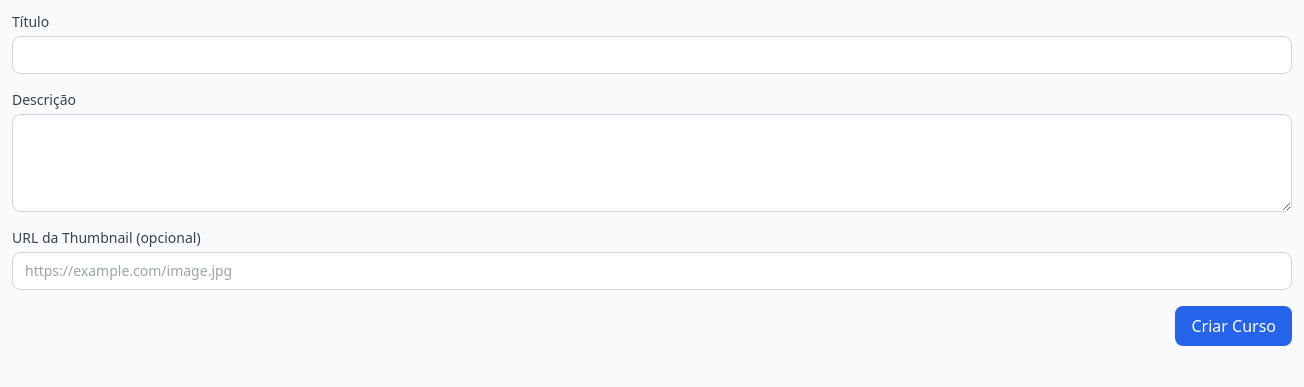
it: CourseForm › deve exibir erro para título curto
Type "AB" into the field labelled "Título". click: [652, 55]
box: [12, 36, 1292, 74]
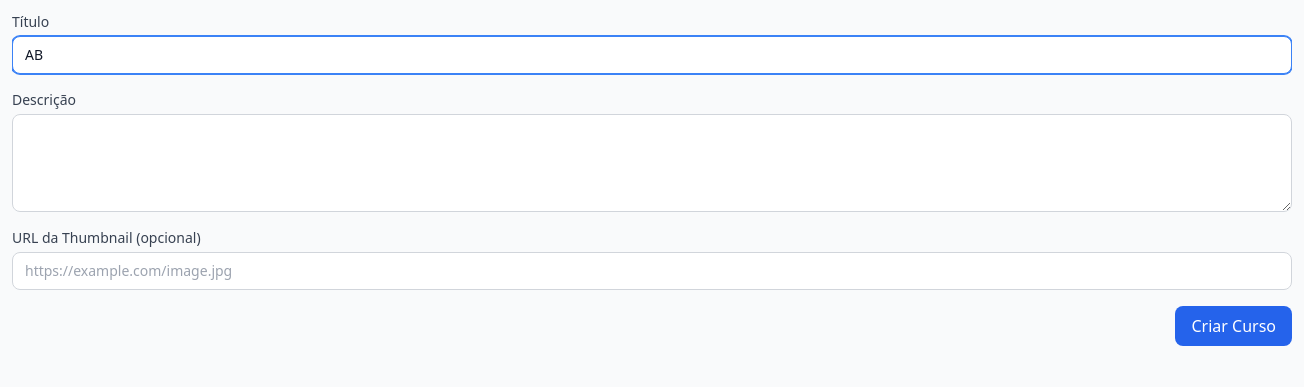
Type "Descrição com pelo menos 10 chars" into the text box labelled "Descrição". click: [652, 163]
box: [12, 114, 1292, 212]
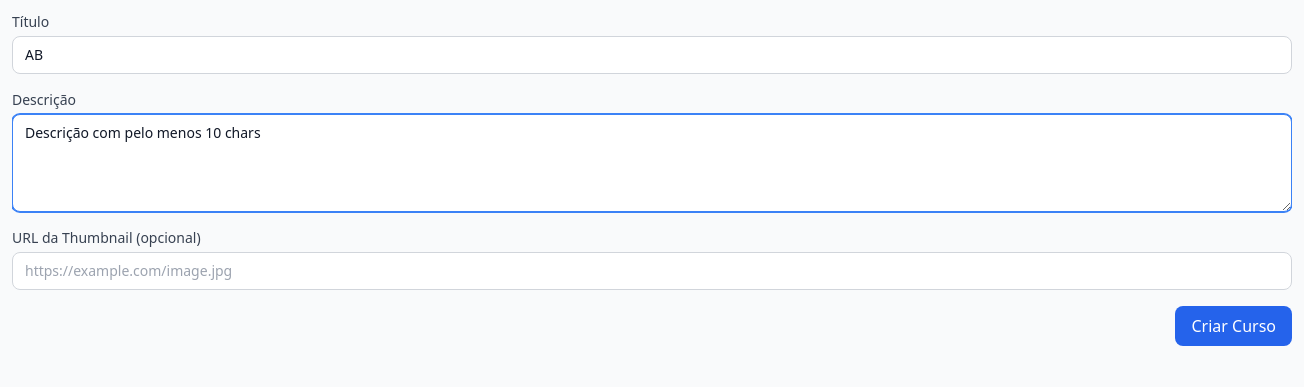
Click the button "Criar Curso". click: [1234, 326]
box: [1176, 306, 1292, 346]
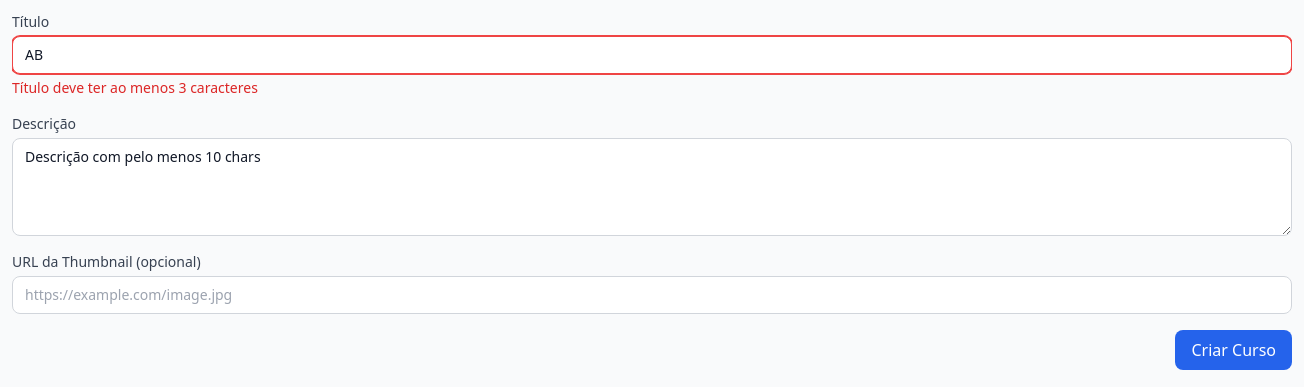
Result: the text "Título deve ter ao menos 3 caracteres" is shown at [12, 78, 258, 97]
